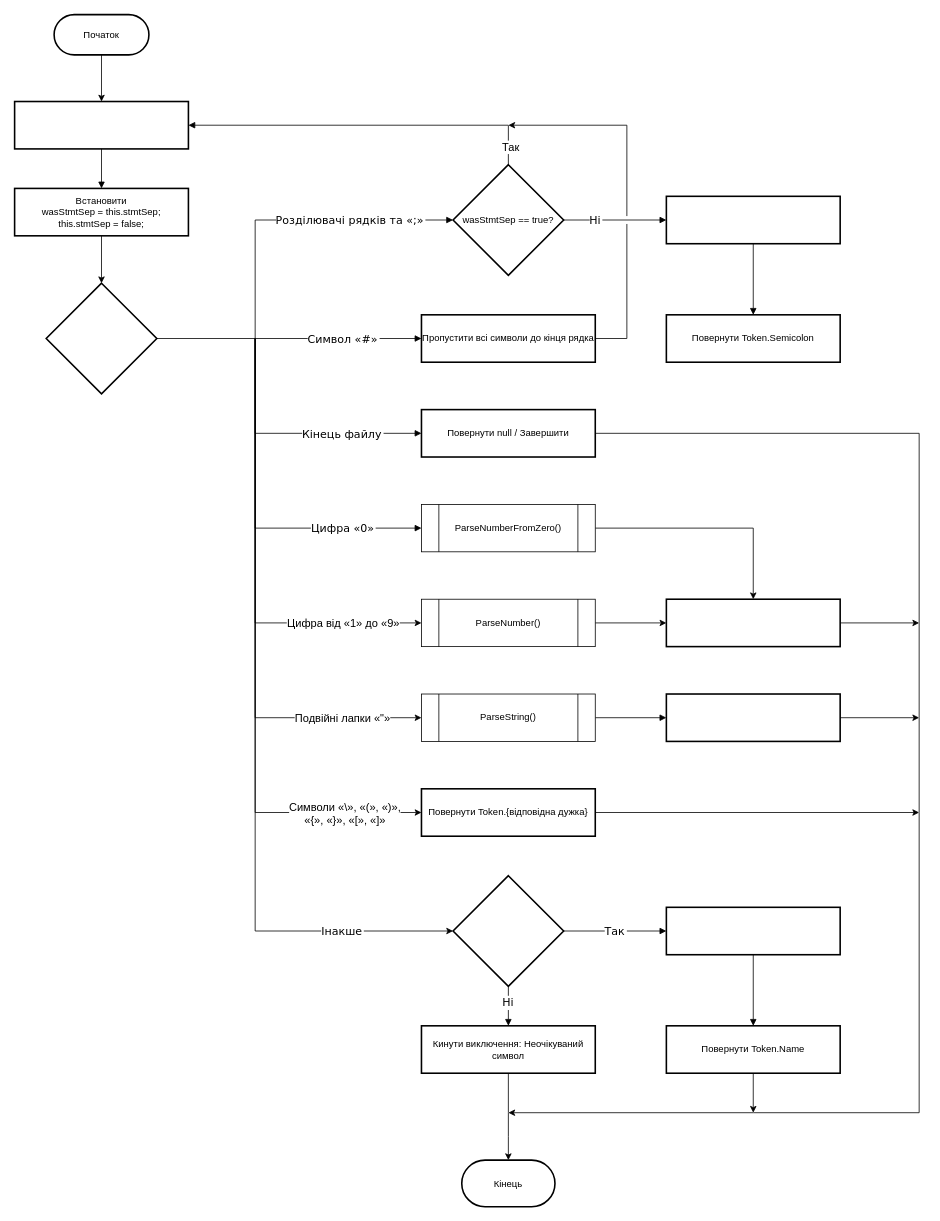
Image size: 940x1221. Some labels were removed from this diagram. Each missing label, with the centre of its shape:
"Встановити this.stmtSep = true;" goes at (753,219).
"Зчитати повну назву/ідентифікатор" goes at (753,930).
"Повернути Token.Int або Token.Float" goes at (753,622).
"Повернути Token.String" goes at (753,717).
"Пропустити пробіли та коментарі" goes at (101,124).
"Це літера або символ?" goes at (508,931).
"Який поточний символ?" goes at (101,338).
